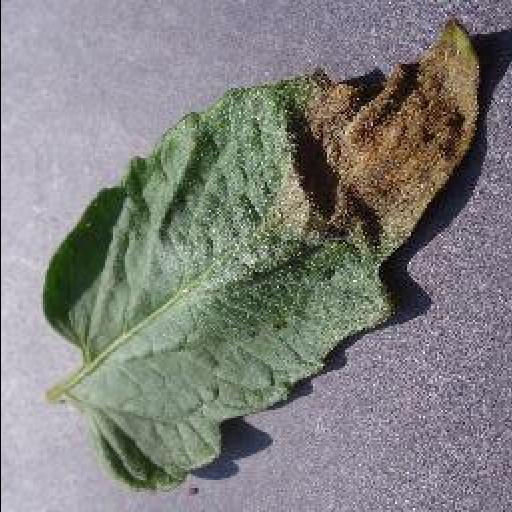disease_tomato: (39, 16, 485, 500)
